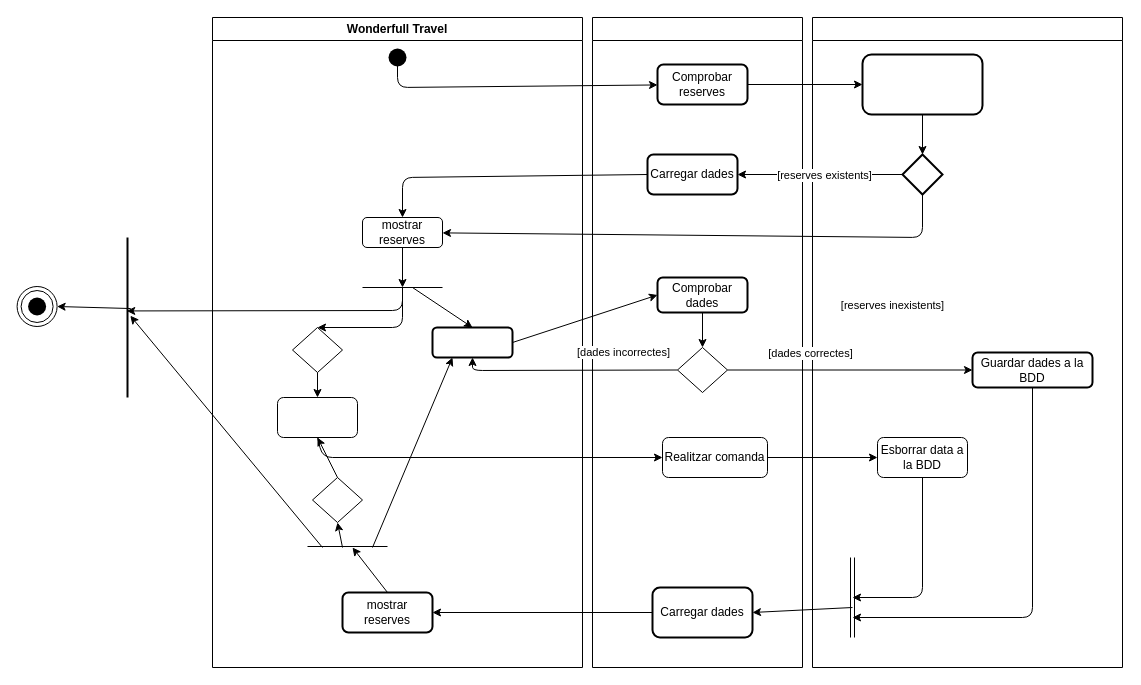
The diagram is 1141 pixels wide and 685 high, and some of its shapes have lost their labels. The shapes that lost their labels are listed below. From the top down, each one's box as (x1, y1, x2, y2) in pixels, then its label:
(861, 53, 983, 115): llegir reserves BDD
(431, 326, 513, 358): Afegir dades client
(592, 16, 802, 668): Controlador
(812, 16, 1122, 668): Modelo
(276, 396, 358, 438): Esborrar reserva
